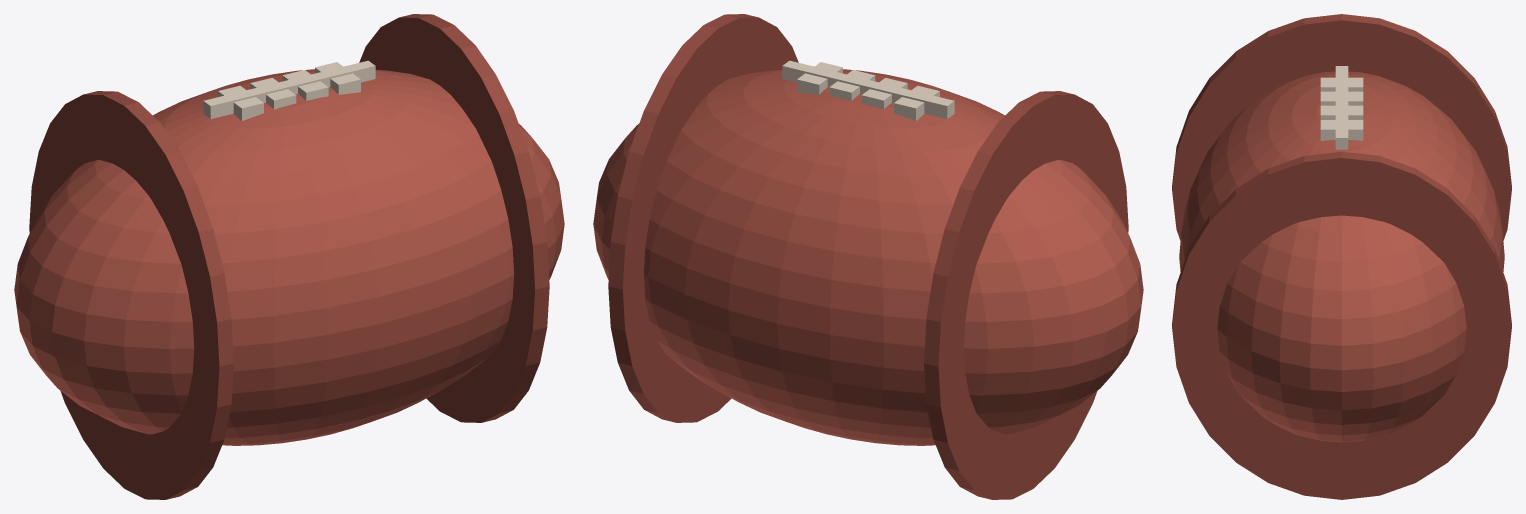
File: ball.glb
The picture shows the model from 3 angles, left to right: view 1: azimuth 30°, elevation 25°; view 2: azimuth 150°, elevation 25°; view 3: azimuth 270°, elevation 25°; orthographic projection. The views are drawn at different scales.
Parts seen in each view (by area): view 1: Ball; view 2: Ball; view 3: Ball.
Boxes of the visible parts, bbox=[...] form: Ball: bbox=[14, 14, 564, 499]; Ball: bbox=[593, 14, 1143, 499]; Ball: bbox=[1172, 14, 1511, 499].
Bounding box in the file's own units: 1.45 × 1.02 × 0.918.
